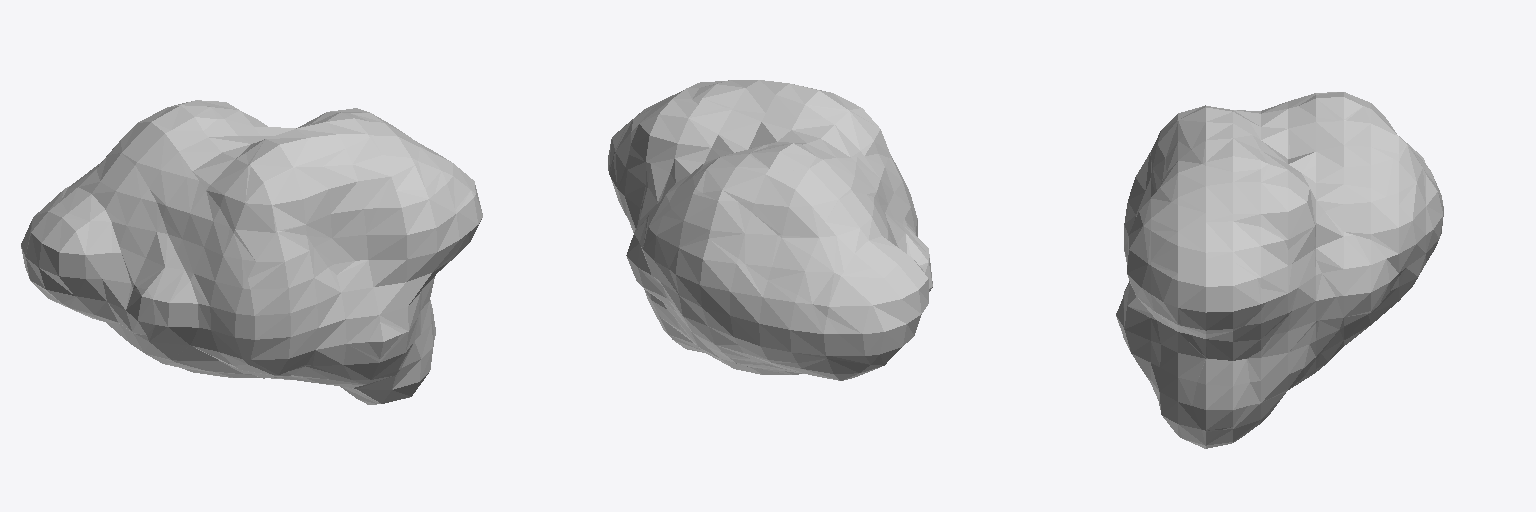
File: 1rfl_m1_mb_cms.obj
The picture shows the model from 3 angles: view 1: azimuth 30°, elevation 25°; view 2: azimuth 150°, elevation 25°; view 3: azimuth 270°, elevation 25°; orthographic projection.
Bounding box in the file's own units: 64.56 × 47.18 × 49.48.